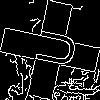U: (25, 25, 78, 70)
